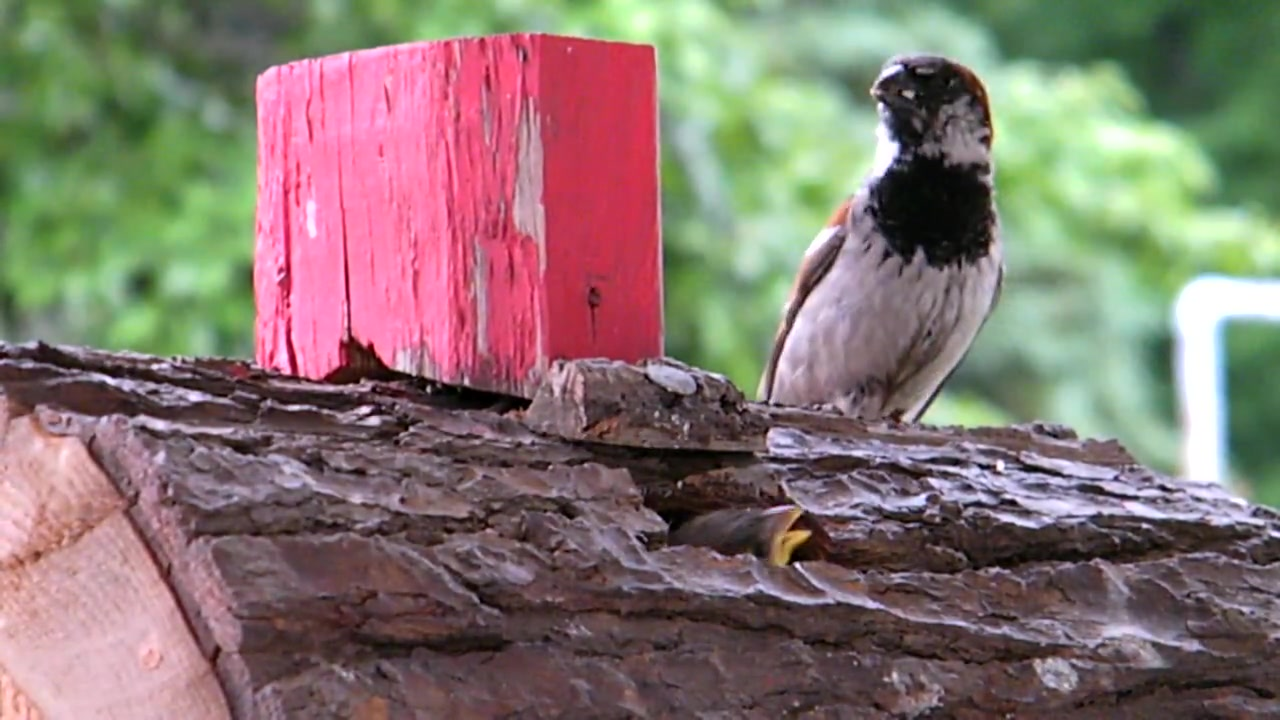bird: (753, 54, 1010, 434)
